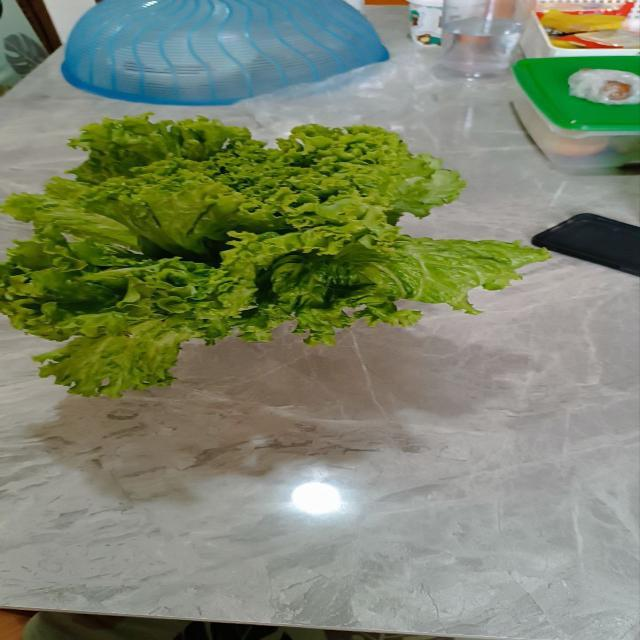Lettuce-Ready-to-Harvest: (0, 117, 554, 403)
